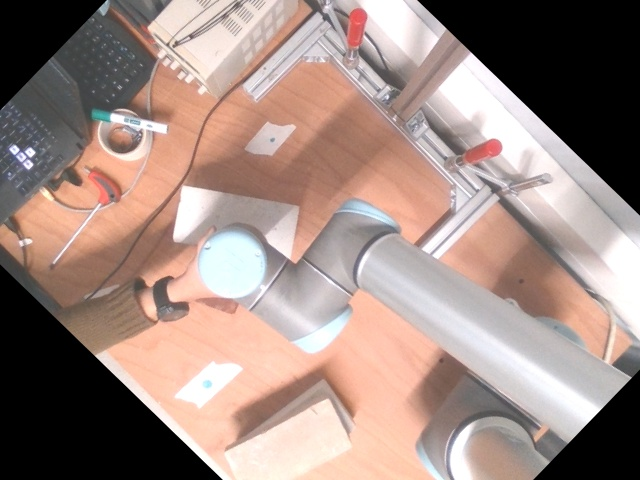brick: (223, 398, 352, 479)
